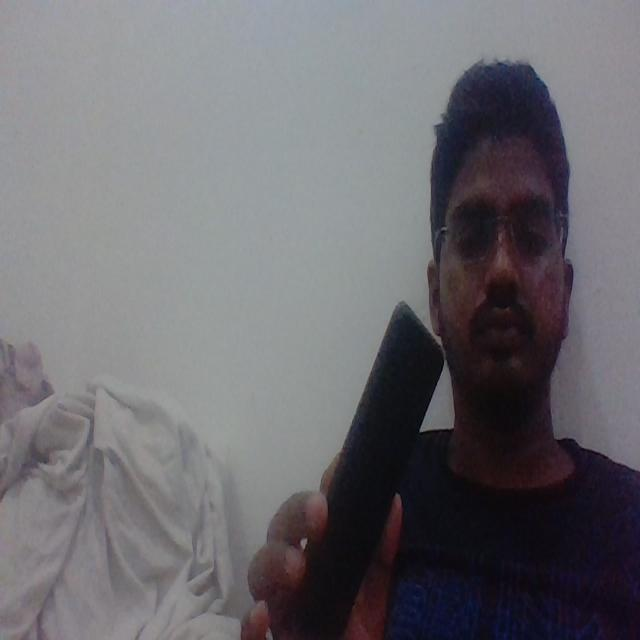Phone: (294, 298, 449, 635)
